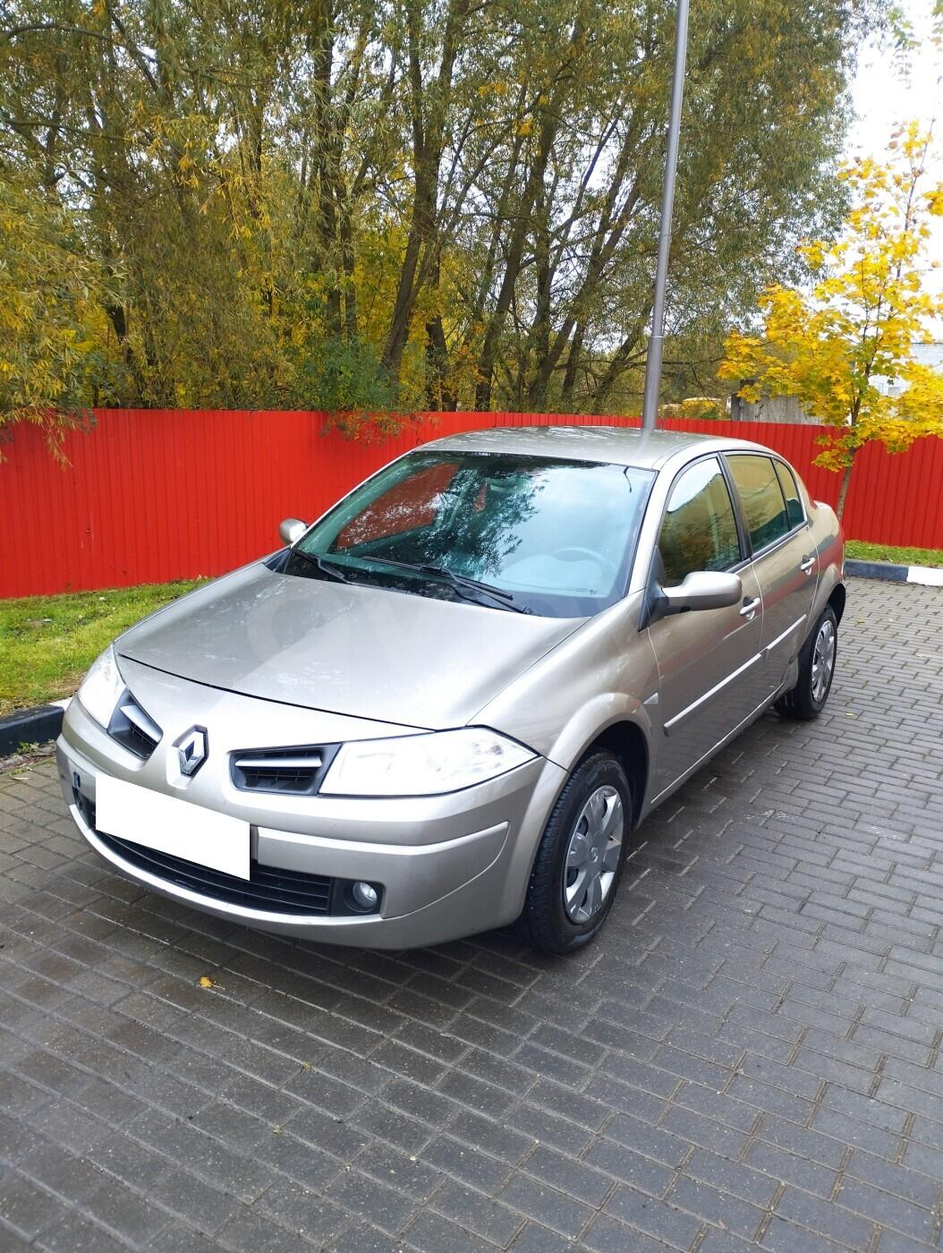Megane_2005-2009: (32, 417, 830, 965)
